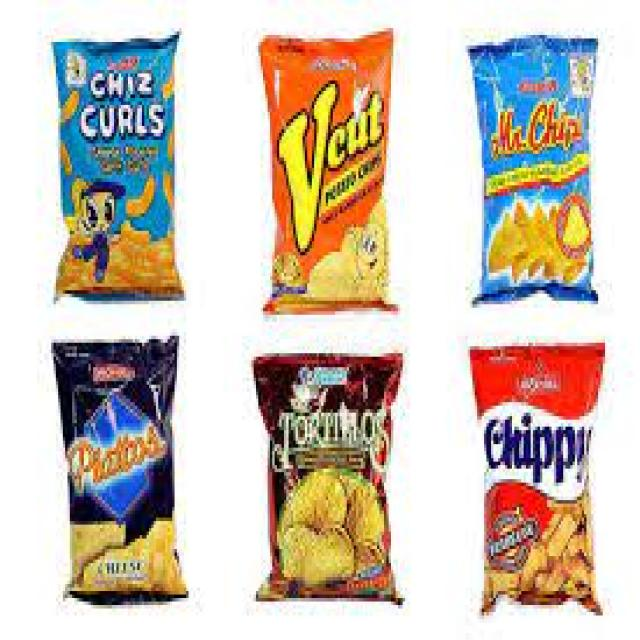junkfood wrapper: (260, 33, 391, 311), (256, 354, 401, 602), (472, 347, 605, 610), (56, 339, 186, 596), (54, 35, 181, 296), (470, 36, 594, 294)
